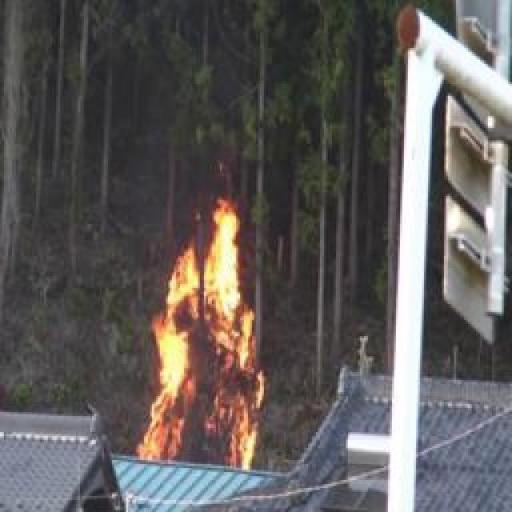smoke: (135, 200, 264, 473)
